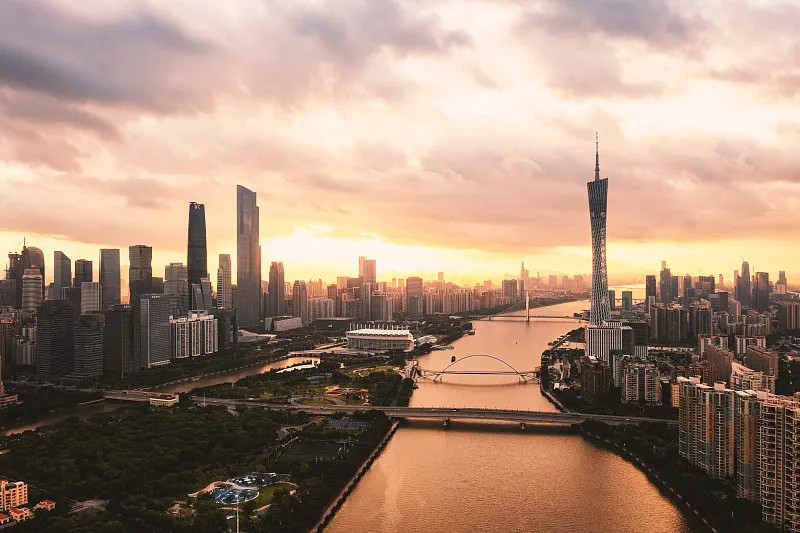Canton: (584, 132, 613, 324)
